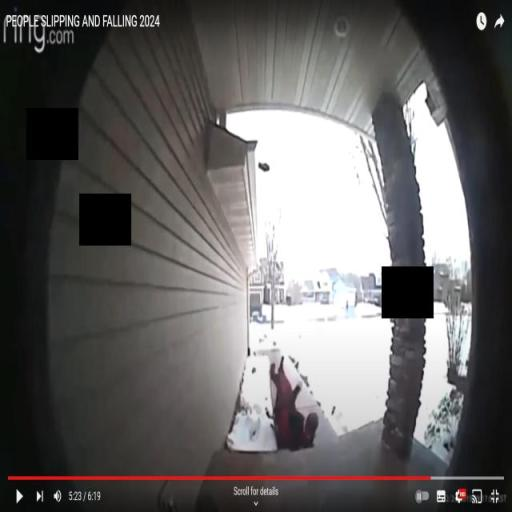Fall: (268, 351, 321, 456)
